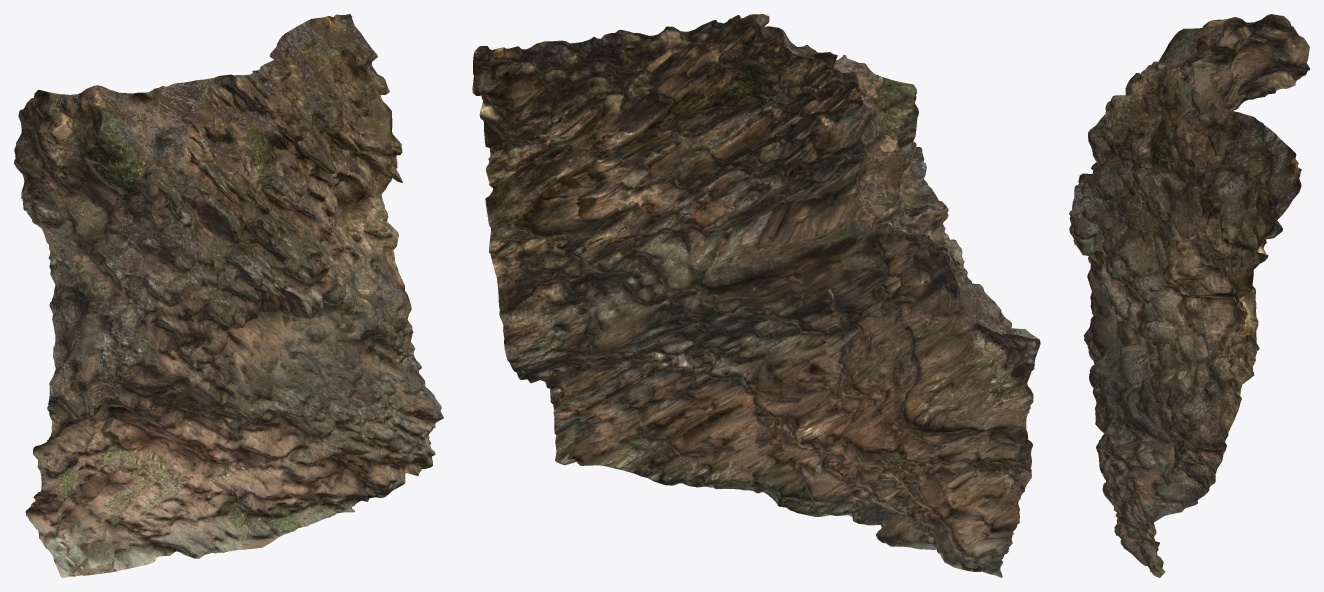
The model's file is mountainside.glb.
3 renders of one model, left to right at view 1: azimuth 30°, elevation 25°; view 2: azimuth 150°, elevation 25°; view 3: azimuth 270°, elevation 25°, orthographic. The views are drawn at different scales.
Parts seen in each view (by area): view 1: mountainside; view 2: mountainside; view 3: mountainside.
Part boxes in pixels (bbox=[...]): mountainside: bbox=[14, 14, 443, 577]; mountainside: bbox=[472, 14, 1040, 577]; mountainside: bbox=[1069, 14, 1309, 577].
Bounding box in the file's own units: 10.21 × 10.52 × 5.24.
1 material, 1 textured.
